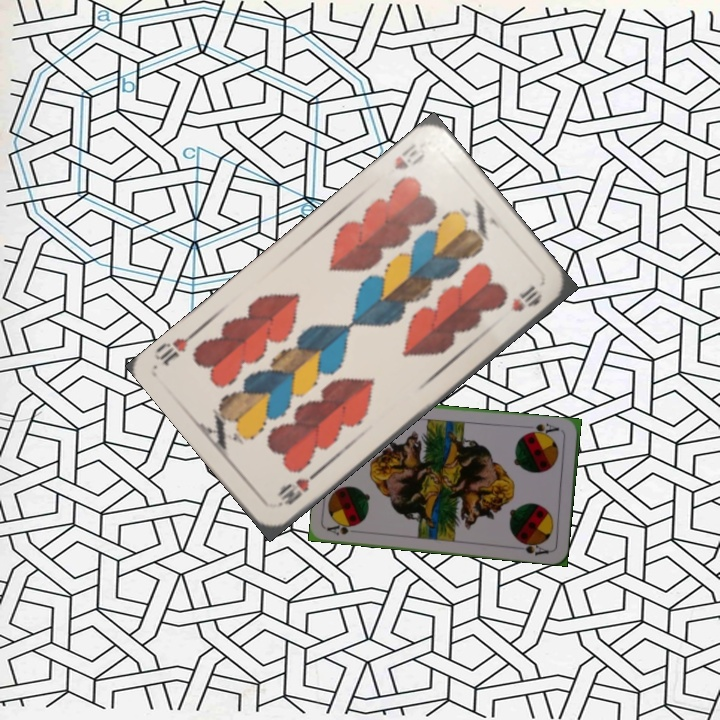H10: (273, 467, 322, 509), (390, 139, 428, 173)
SA: (523, 419, 562, 439), (324, 519, 365, 538)
